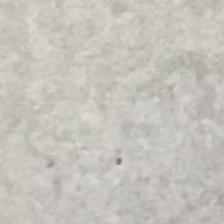Non_Crack: (15, 5, 208, 215)
